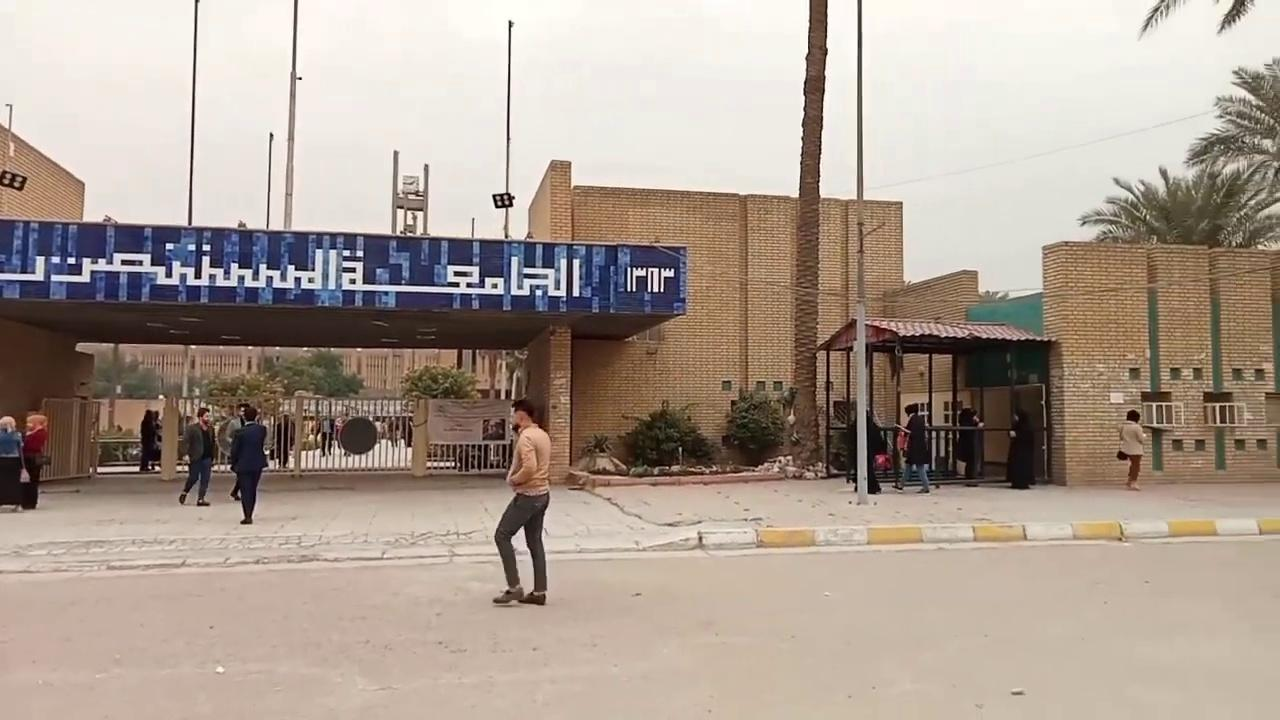person: (492, 398, 551, 605), (228, 405, 268, 524), (178, 407, 216, 506), (893, 402, 931, 493), (20, 413, 48, 508), (0, 415, 26, 511), (1006, 405, 1035, 489), (1116, 409, 1145, 490), (955, 406, 983, 486), (139, 409, 161, 472)
tree: (1137, 0, 1279, 245), (787, 0, 829, 469), (200, 348, 363, 461), (1077, 162, 1257, 246), (1184, 54, 1279, 206), (398, 362, 480, 476), (277, 348, 363, 452), (201, 366, 284, 461), (619, 398, 715, 468), (724, 387, 786, 466), (86, 342, 141, 431), (1137, 0, 1257, 40), (279, 348, 364, 397), (398, 362, 480, 401), (482, 347, 530, 402), (201, 369, 250, 412), (120, 363, 162, 398)
